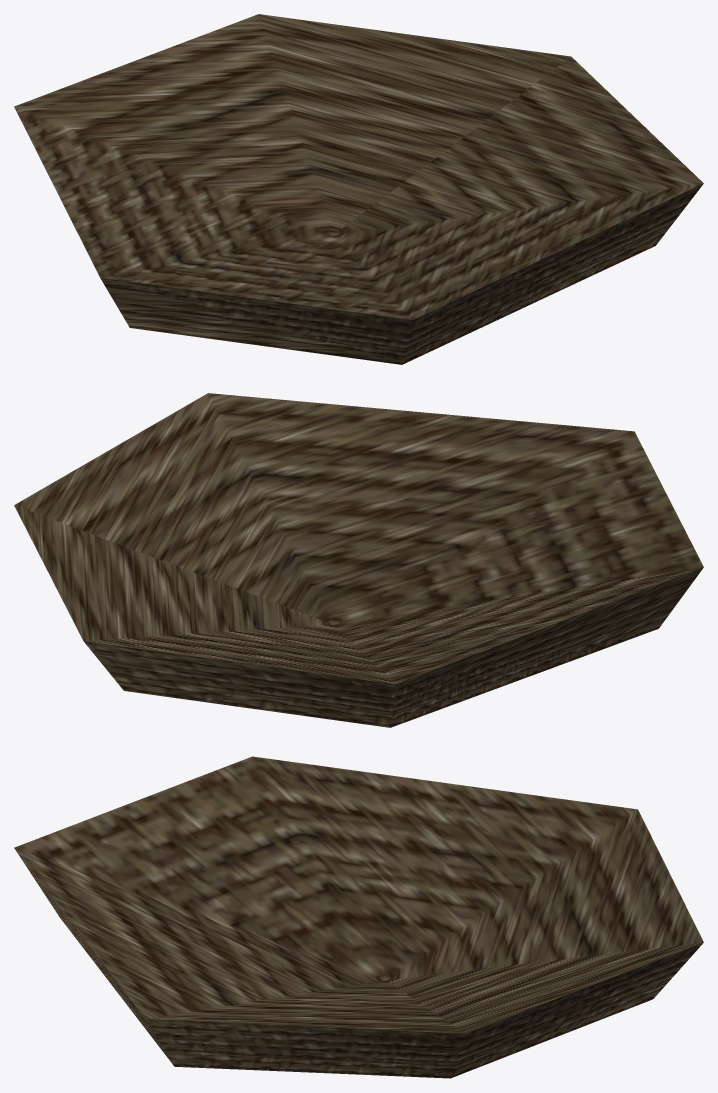
The model's file is edb_con_tato_basket_s03_l2.fbx.
3 renders of one model, top to bottom at view 1: azimuth 30°, elevation 25°; view 2: azimuth 150°, elevation 25°; view 3: azimuth 270°, elevation 25°, orthographic. The views are drawn at different scales.
Visible parts, largest first — view 1: mesh_node; view 2: mesh_node; view 3: mesh_node.
Part boxes in pixels (x1,y1,x2,y2): mesh_node: [14, 14, 703, 364]; mesh_node: [14, 393, 703, 727]; mesh_node: [14, 756, 703, 1078].
Size of the model in its own units: 1.21 by 0.2197 by 1.27.
1 material, 1 textured.
